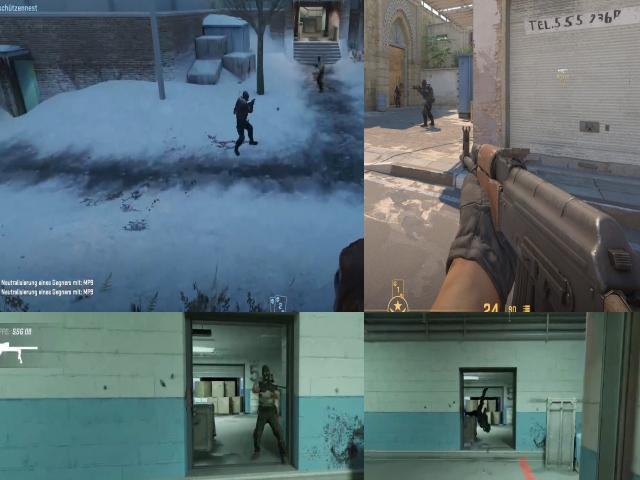CT: (234, 86, 253, 124), (421, 78, 434, 122), (395, 84, 401, 108)
CT-Head: (238, 89, 250, 105), (422, 79, 426, 87), (396, 85, 400, 89)
Dead: (468, 396, 494, 436)
T: (254, 365, 278, 424), (317, 55, 327, 77)
T-Head: (259, 367, 274, 387), (316, 53, 324, 67)
